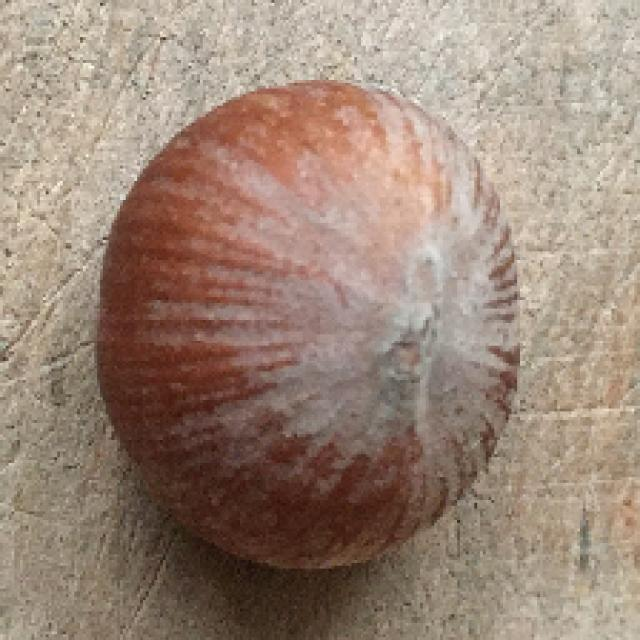qualityHazelnut: (95, 78, 522, 569)
